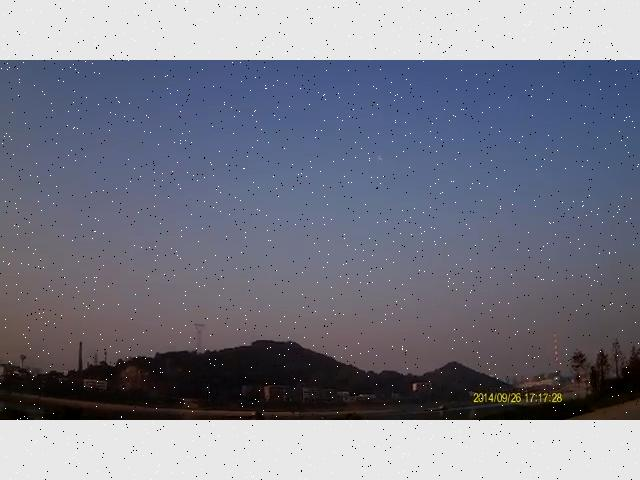Anti-Drone: (370, 148, 396, 164)
